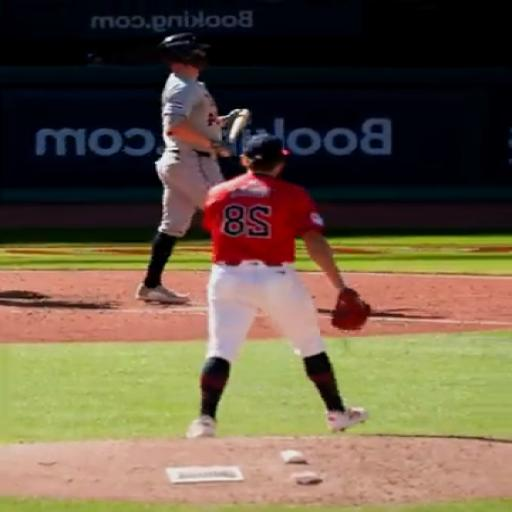bat: (227, 110, 249, 143)
